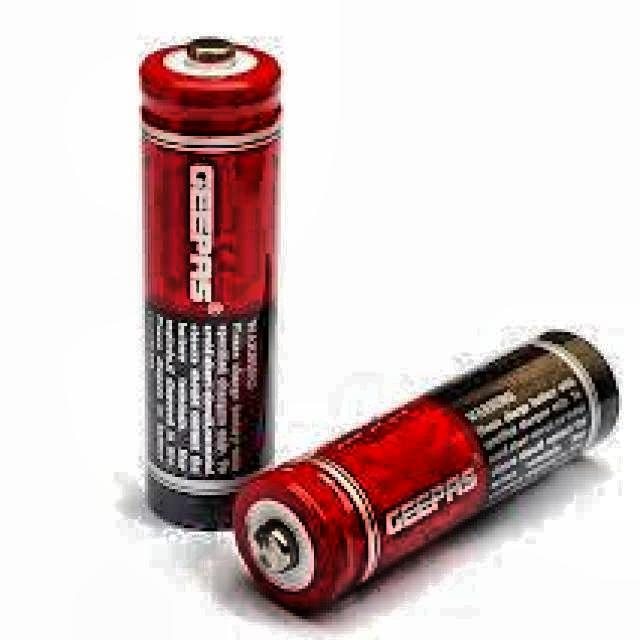Non-Valuable Waste - Batteries: (230, 329, 620, 618), (139, 36, 281, 531)
